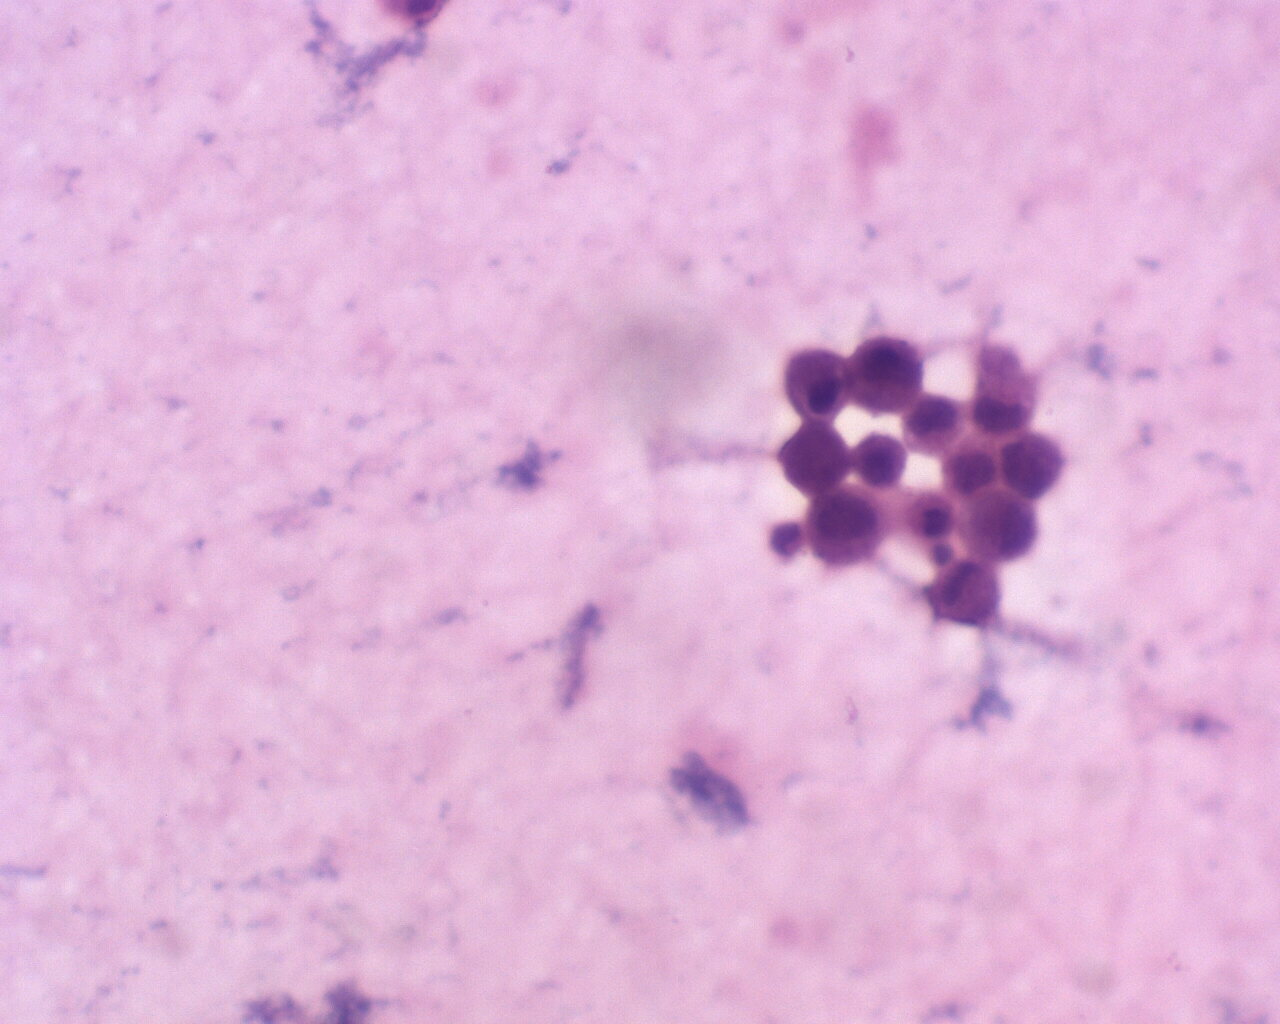ab: (956, 480, 1044, 565), (843, 333, 929, 420), (806, 487, 888, 569), (775, 417, 856, 499), (997, 434, 1065, 508), (850, 430, 909, 492)
meso: (779, 340, 853, 423)
